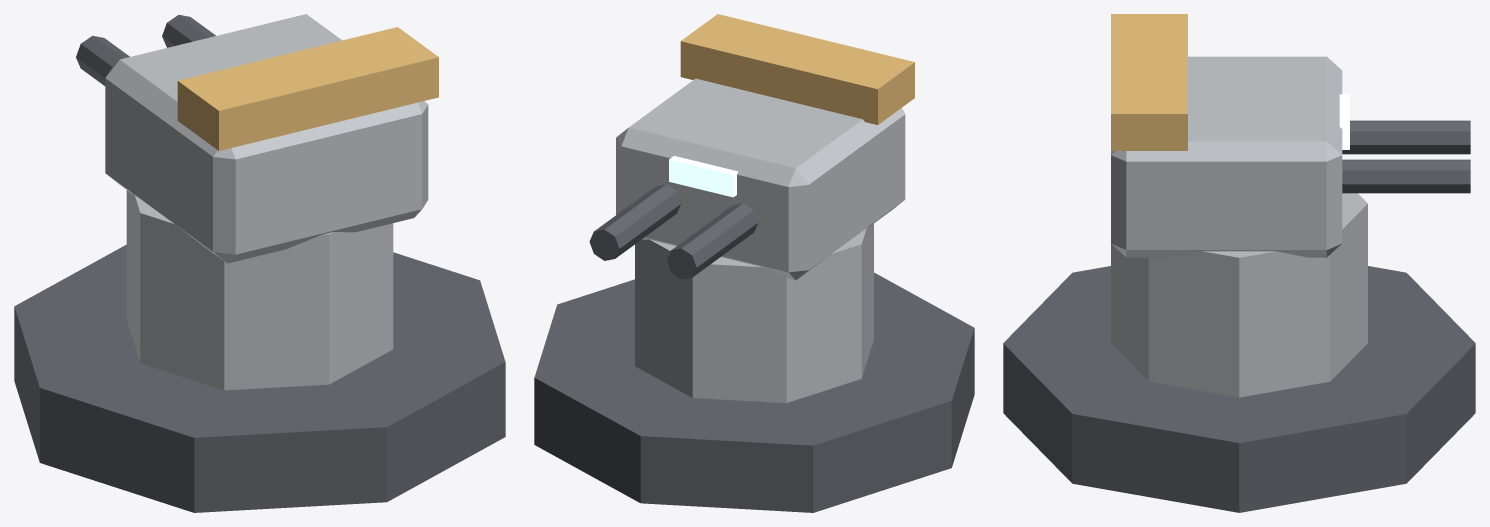
File: defense_turret.glb
The picture shows the model from 3 angles, left to right: view 1: azimuth 30°, elevation 25°; view 2: azimuth 150°, elevation 25°; view 3: azimuth 270°, elevation 25°; orthographic projection. The views are drawn at different scales.
Parts seen in each view (by area): view 1: base; view 2: base; view 3: base.
Part boxes in pixels (box(x1,y1,x2,y2)): base: box(14, 14, 505, 512); base: box(534, 14, 974, 512); base: box(1003, 14, 1475, 512).
Bounding box in the file's own units: 1.84 × 1.5 × 1.84.
